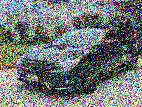car: (13, 26, 137, 93)
